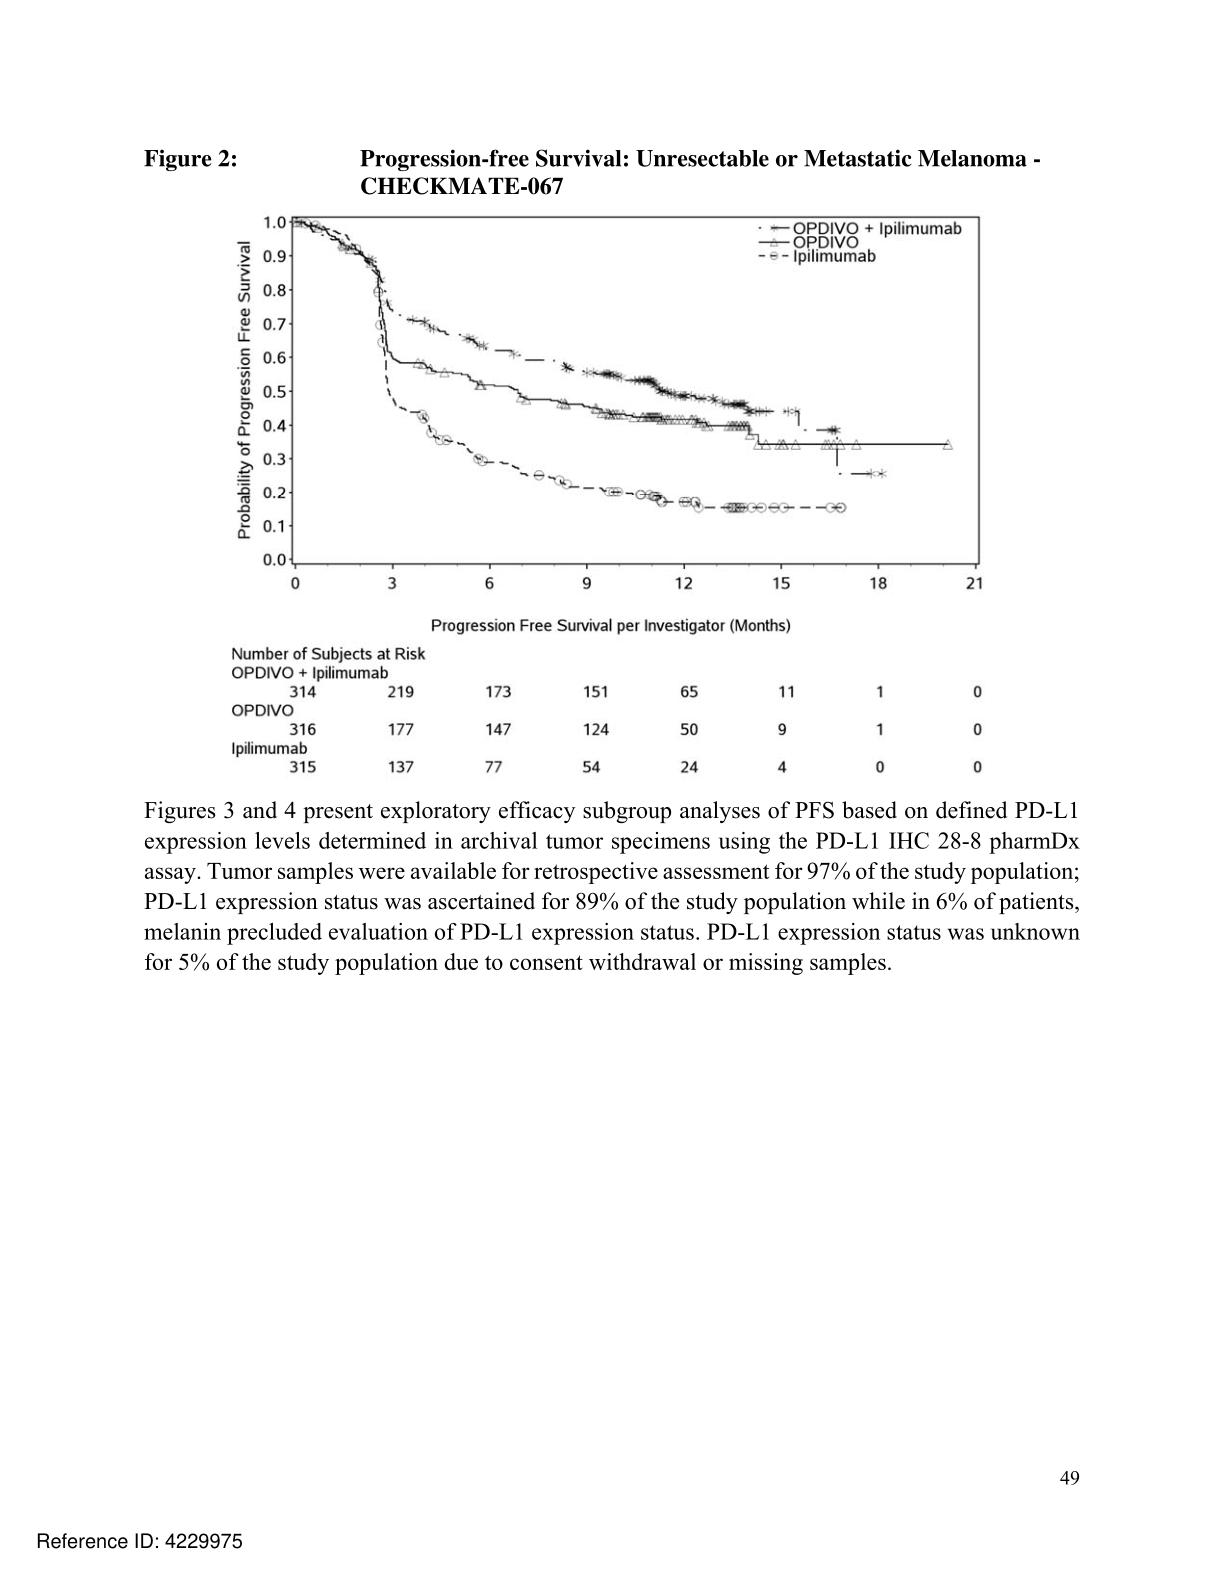nolines: (226, 642, 987, 778)
